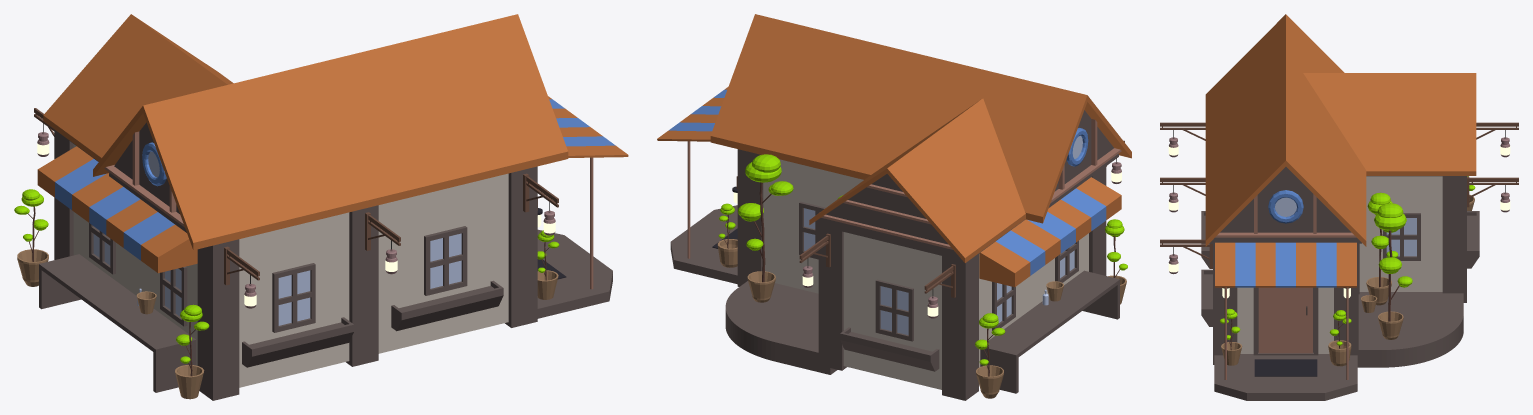
File: LeaderHouse_A.fbx
3 views of the same model, side by side, from view 1: azimuth 30°, elevation 25°; view 2: azimuth 150°, elevation 25°; view 3: azimuth 270°, elevation 25° (orthographic). The views are drawn at different scales.
Visible parts, largest first — view 1: Cube.070, Cube.044, Cube.072, Cube.085, Cube.086, Cube.052, Cube.057, Cube.055, Cube.048, Cube.061, Cube.062, Cube.064 (+16 smaller); view 2: Cube.070, Cube.044, Cube.072, Cube.085, Cube.087, Cube.086, Cube.051, Cube.075, Cube.053, Cube.048, Cube.056, Cube.060 (+20 smaller); view 3: Cube.070, Cube.072, Cube.044, Cube.047, Cube.087, Cube.048, Cube.074, Cube.076, Cube.053, Cylinder.024, Cube.056, Cube.057 (+17 smaller).
Boxes of the visible parts, x1,y1,x2,y2 form: Cube.070: (93, 14, 568, 250); Cube.044: (73, 144, 508, 387); Cube.072: (43, 14, 233, 161); Cube.085: (37, 146, 197, 273); Cube.086: (39, 254, 196, 392); Cube.052: (197, 239, 239, 400); Cube.057: (505, 166, 537, 327); Cube.055: (346, 205, 378, 366); Cube.048: (537, 229, 612, 318); Cube.061: (272, 263, 315, 332); Cube.062: (424, 226, 467, 295); Cube.064: (391, 280, 503, 331); Cube.070: (710, 14, 1131, 223); Cube.044: (763, 159, 1088, 389); Cube.072: (809, 98, 1025, 262); Cube.085: (979, 177, 1121, 287); Cube.087: (725, 281, 837, 374); Cube.086: (980, 270, 1119, 393); Cube.051: (942, 254, 978, 400); Cube.075: (815, 174, 958, 256); Cube.053: (818, 226, 846, 370); Cube.048: (670, 205, 737, 284); Cube.056: (737, 149, 763, 286); Cube.060: (875, 279, 913, 341); Cube.070: (1205, 14, 1366, 246); Cube.072: (1303, 73, 1476, 175); Cube.044: (1237, 176, 1442, 353); Cube.047: (1215, 242, 1356, 287); Cube.087: (1357, 292, 1463, 367); Cube.048: (1214, 354, 1357, 400); Cube.074: (1209, 167, 1361, 243); Cube.076: (1258, 287, 1312, 353); Cube.053: (1442, 176, 1466, 302); Cylinder.024: (1374, 203, 1412, 321); Cube.056: (1334, 243, 1358, 364); Cube.057: (1213, 243, 1237, 364).
Size of the model in its own units: 4531 by 2603 by 3802.
